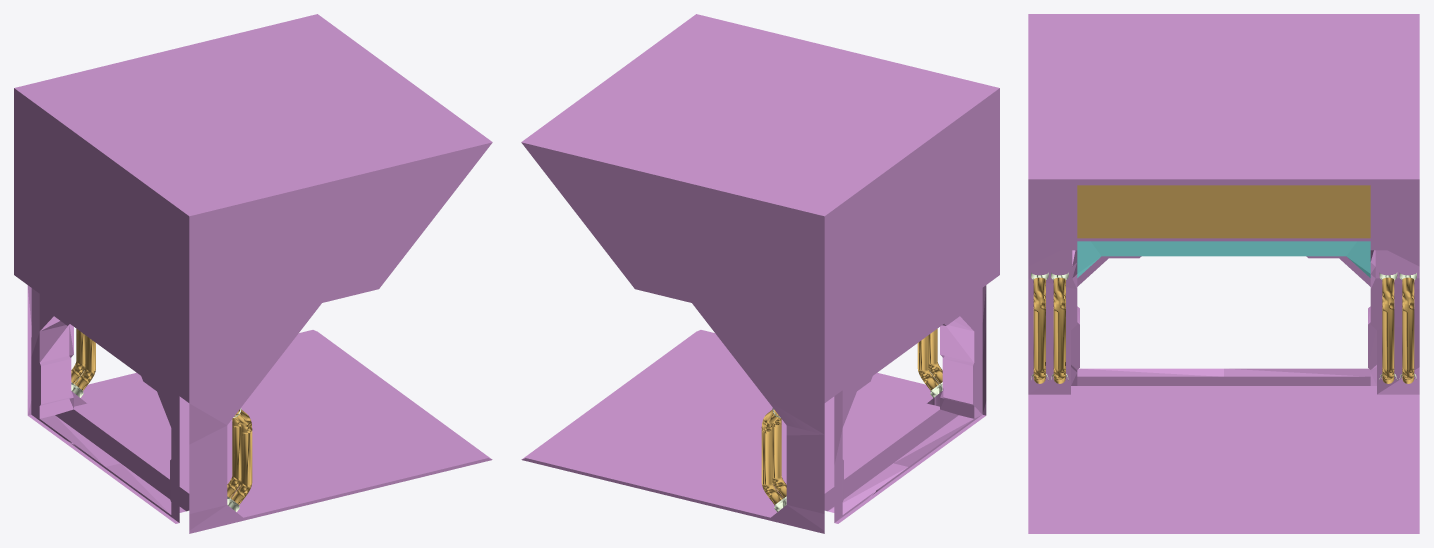
File: uee_stanton_kit_ext_wall_8x8x8_07_reg.glb
3 views of the same model, side by side, from view 1: azimuth 30°, elevation 25°; view 2: azimuth 150°, elevation 25°; view 3: azimuth 270°, elevation 25° (orthographic). The views are drawn at different scales.
Size of the model in its own units: 8 by 8 by 8.
